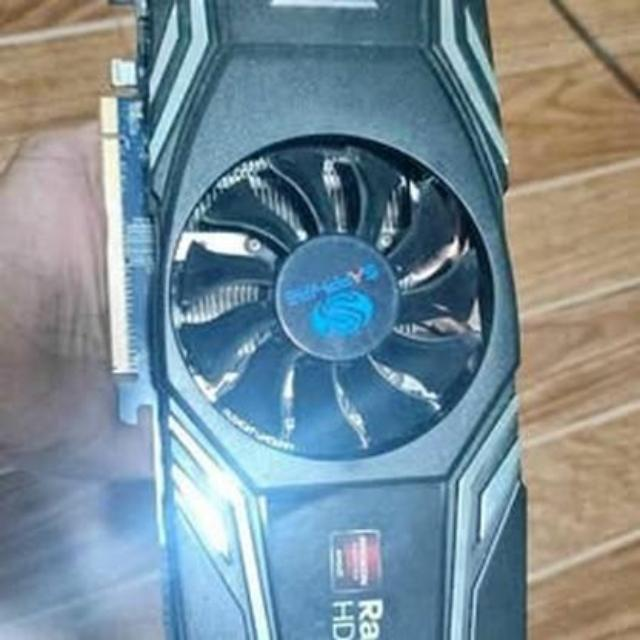GPU: (94, 0, 531, 640)
